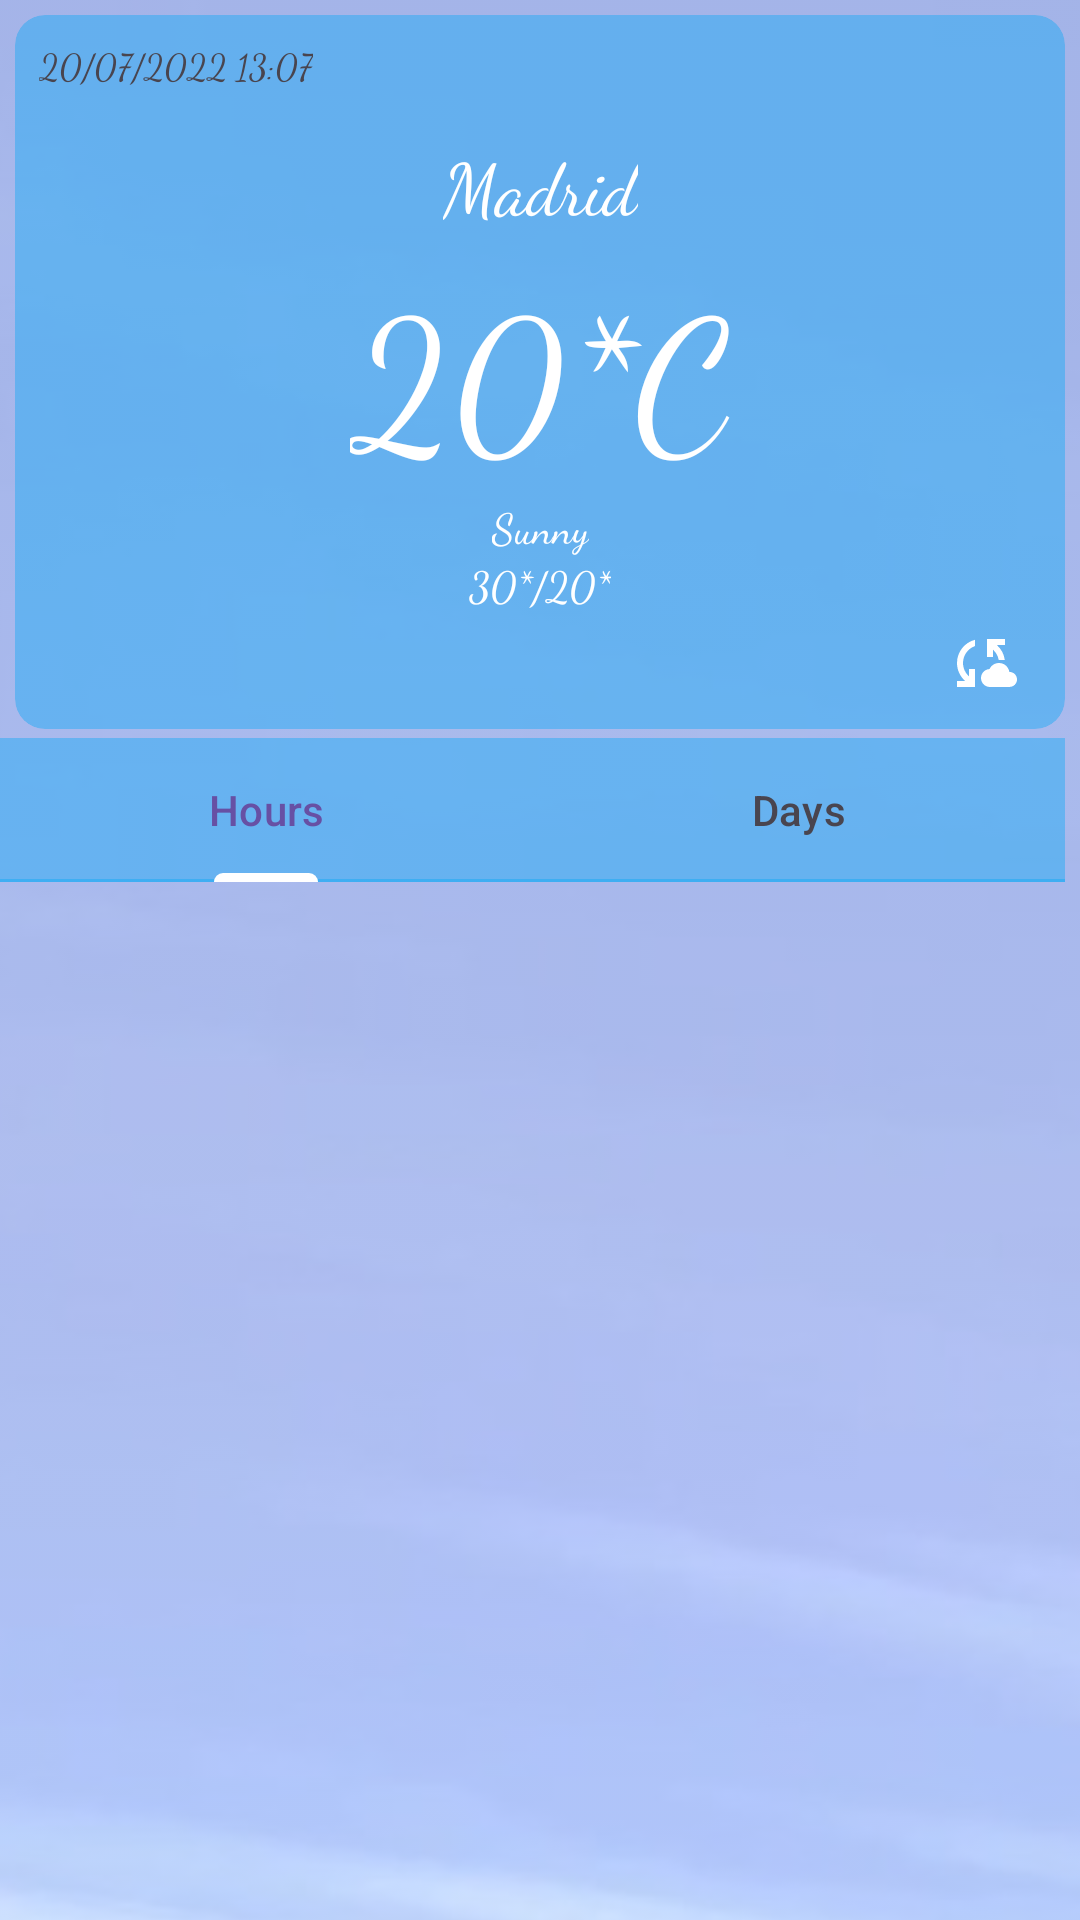

Icon click points for this 1080 x 1920 phone screenshot, format (x,y):
cloud sync: (987,663)
